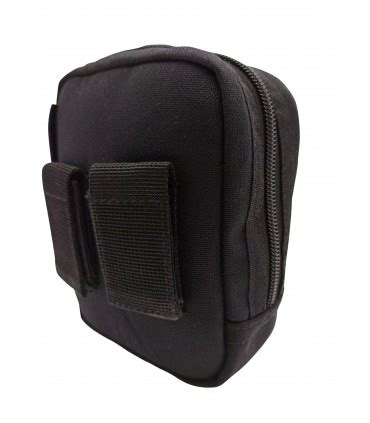nylon: (41, 46, 300, 387)
